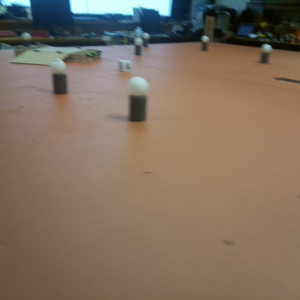corner: (204, 16, 217, 36)
obstacle: (129, 77, 152, 126), (51, 61, 70, 95), (254, 42, 275, 63), (197, 36, 211, 50), (132, 38, 142, 56), (145, 32, 152, 52)
side: (74, 49, 106, 63)
slope: (21, 51, 66, 59)
start: (273, 72, 300, 92)
